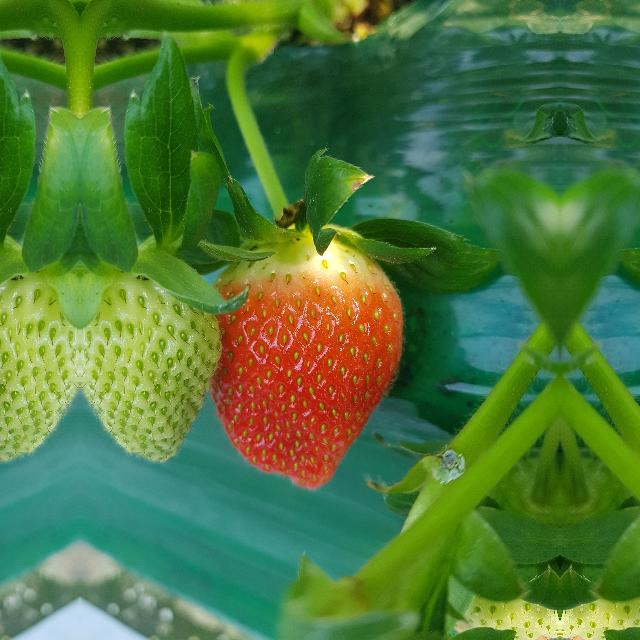Health_100: (208, 237, 404, 491)
Health_25: (80, 261, 218, 461), (0, 261, 80, 461)
